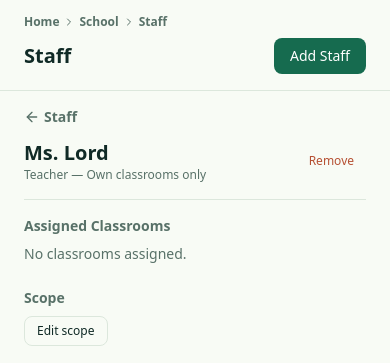
StaffPage › clicking the mobile "Staff" back link clears the selection and returns to the list
Expected: the button "Edit scope" is shown, [24, 316, 108, 346]
Click the button "Staff" at point(51, 117), box [24, 107, 77, 127]
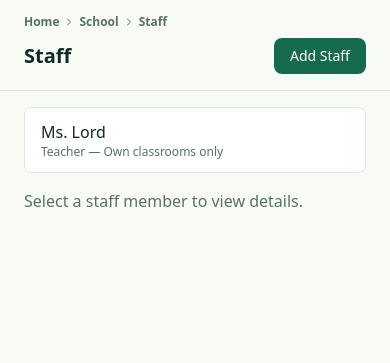
Expected: the text "Select a staff member to view details." is shown, [24, 190, 303, 212]
